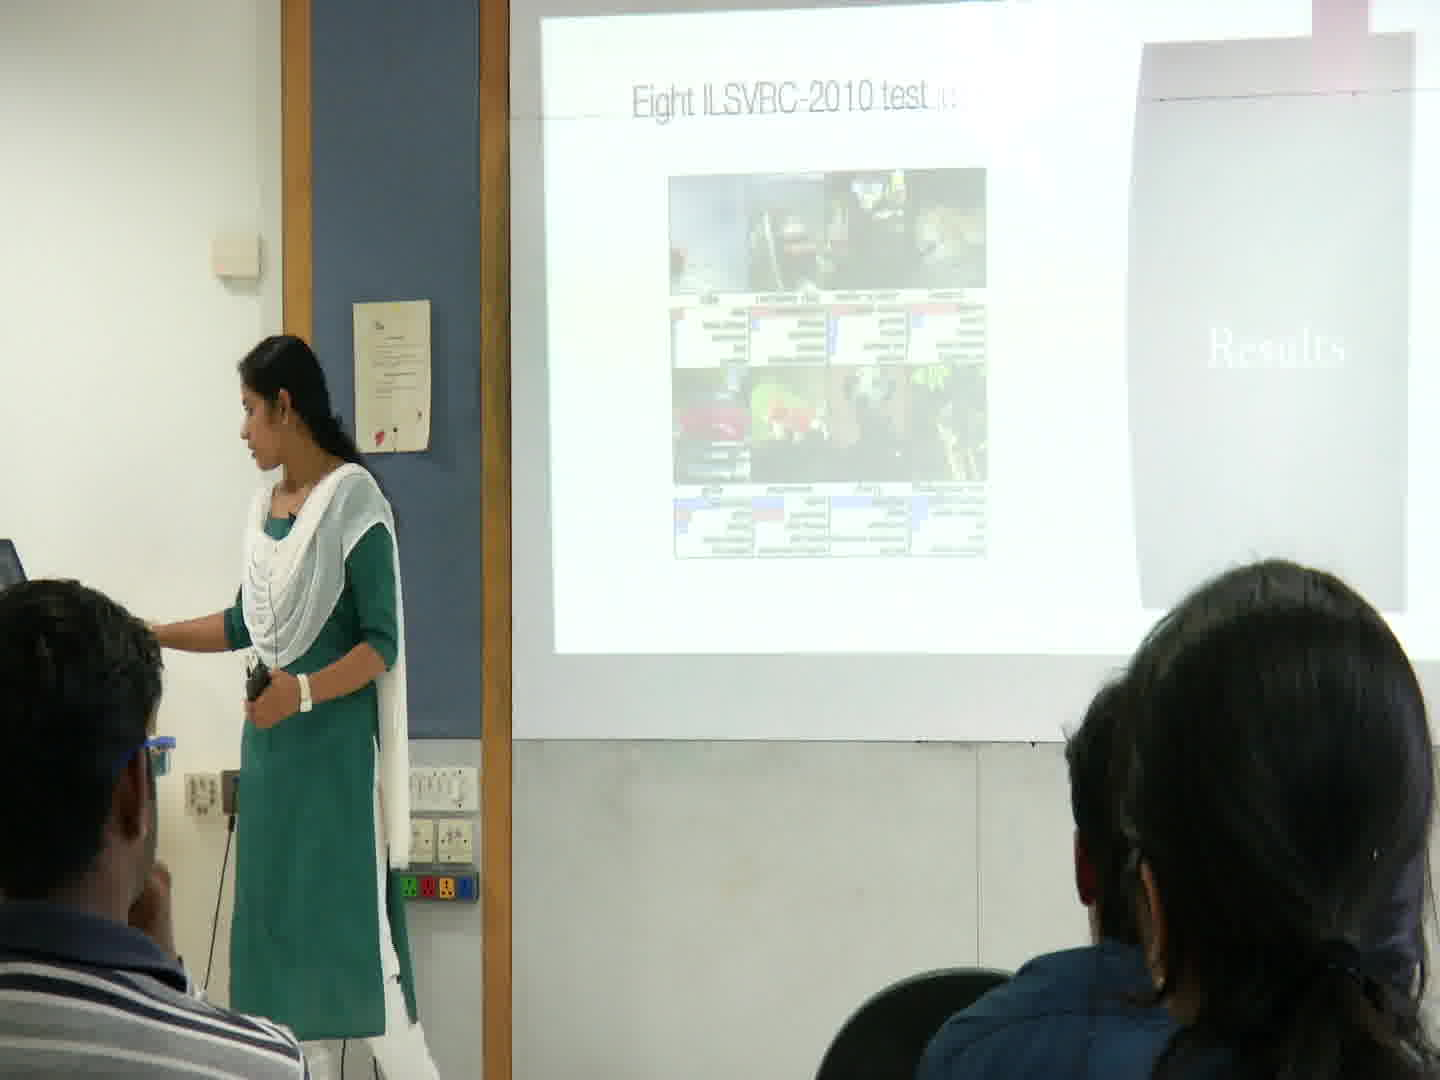fig: (658, 157, 996, 571)
